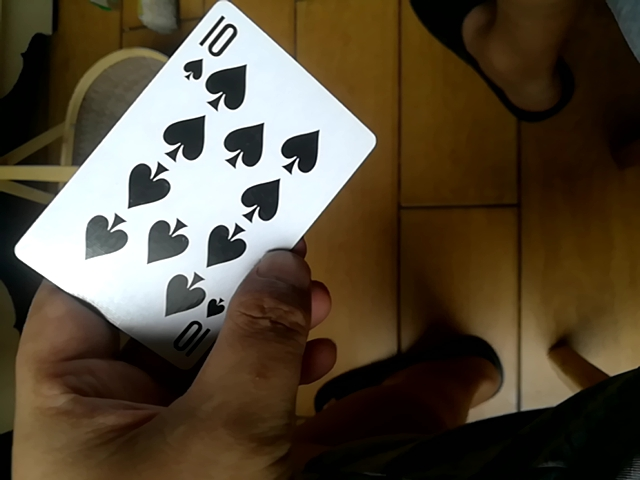ht 10: (17, 1, 386, 370)
